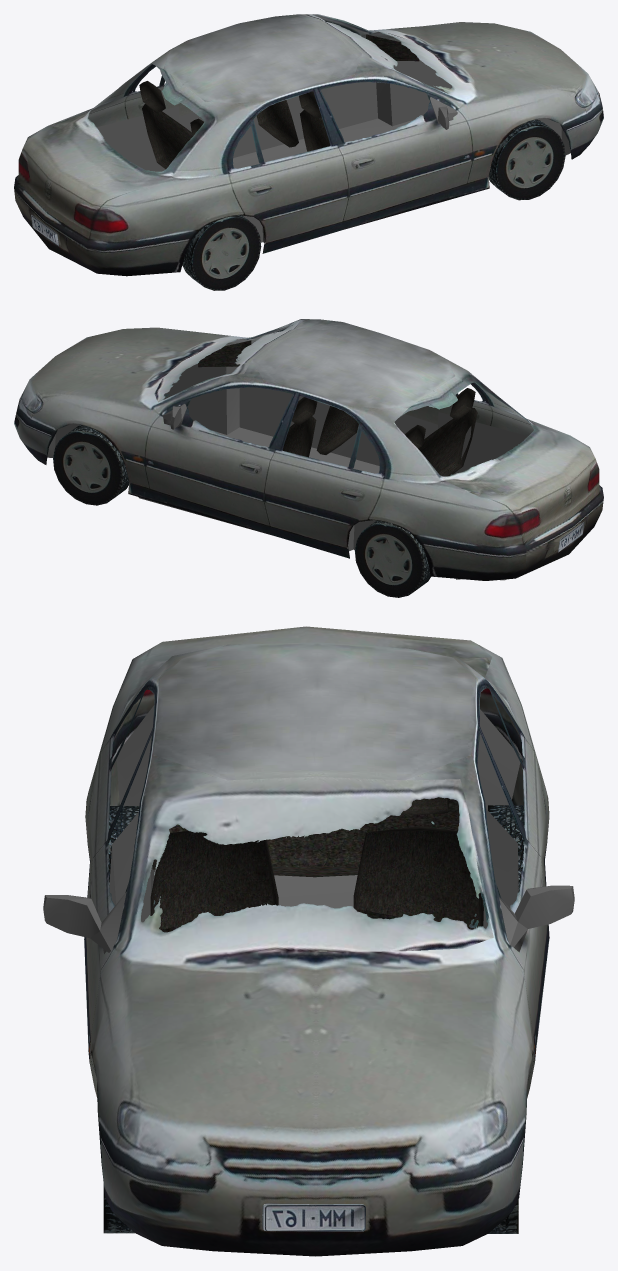
The model's file is car.fbx.
The picture shows the model from 3 angles, top to bottom: view 1: azimuth 30°, elevation 25°; view 2: azimuth 150°, elevation 25°; view 3: azimuth 270°, elevation 25°; orthographic projection. The views are drawn at different scales.
Visible parts, largest first — view 1: body; view 2: body; view 3: body.
Part boxes in pixels (x1=…): body: x1=14, y1=14, x2=603, y2=290; body: x1=14, y1=319, x2=603, y2=597; body: x1=43, y1=626, x2=574, y2=1256.
Size of the model in its own units: 32784 by 10391 by 14248.
